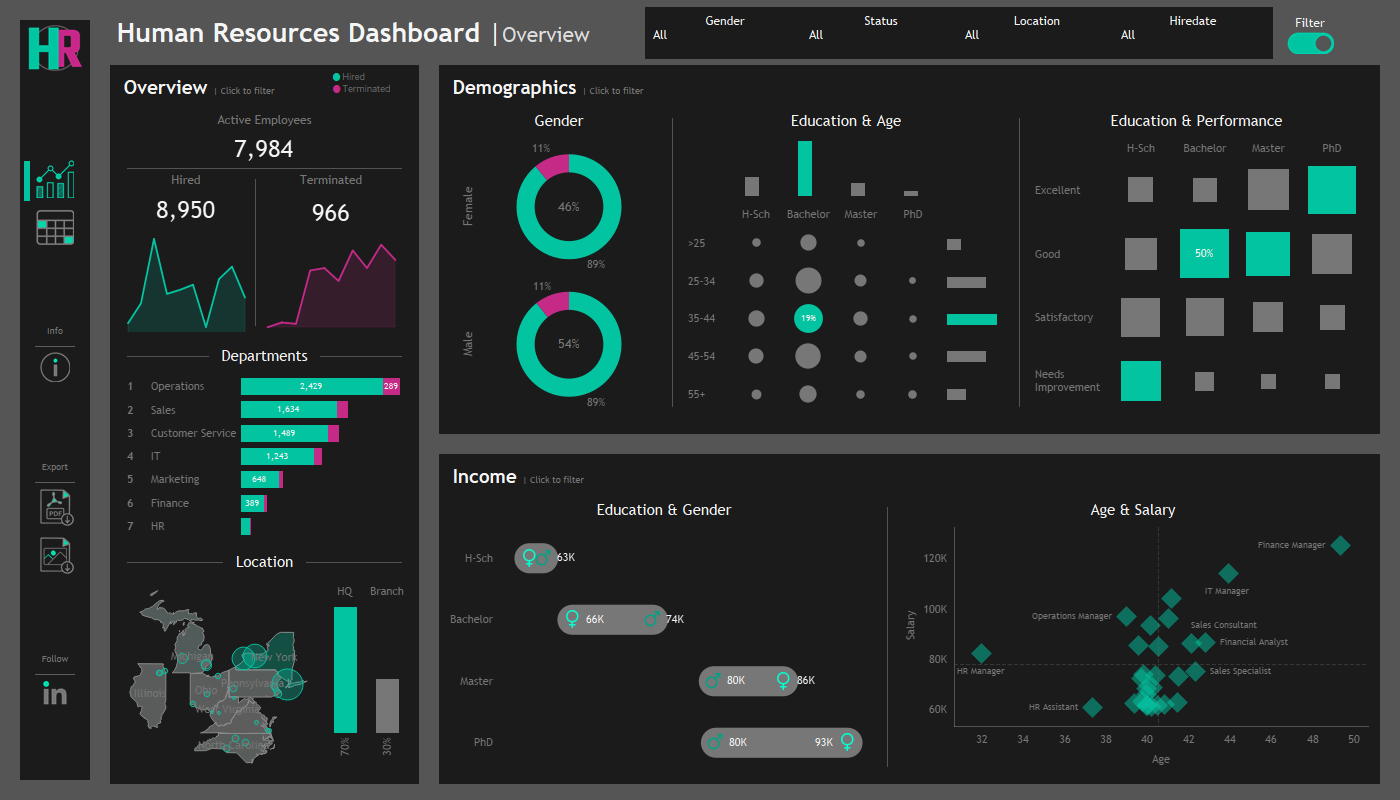

The page's visual inventory and layout, read from the dashboard file:
{"tool":"tableau","page":{"name":"HR | Summary","canvas":[1400,800],"ordinal":1},"visuals":[{"type":"blank","box":[91,0,1309,229]},{"type":"text","box":[110,0,675,65]},{"type":"blank","box":[785,0,595,65]},{"type":"text","box":[1274,8,72,30]},{"type":"filter","title":"Gender vs Education Level","param":"[federated.0zwqjh80e3d7aq1fdb9z613czh0v].[none:Gender:nk]","box":[647,9,156,48]},{"type":"filter","title":"Gender vs Education Level","param":"[federated.0zwqjh80e3d7aq1fdb9z613czh0v].[none:Calculation_1618199688264314880:n","box":[803,9,156,48]},{"type":"filter","title":"Gender vs Education Level","param":"[federated.0zwqjh80e3d7aq1fdb9z613czh0v].[none:Calculation_891712773256622085:nk","box":[959,9,156,48]},{"type":"filter","title":"Gender vs Education Level","param":"[federated.0zwqjh80e3d7aq1fdb9z613czh0v].[yr:Hiredate:ok]","box":[1115,9,156,48]},{"type":"image","param":"Image/Logo.png","box":[20,20,70,55]},{"type":"dashboard-object","box":[1287,21,47,45]},{"type":"text","box":[330,68,65,30]},{"type":"text","box":[117,72,295,31]},{"type":"text","box":[446,72,927,31]},{"type":"blank","box":[30,85,50,75]},{"type":"text","box":[117,103,295,28]},{"type":"text","box":[451,108,216,26]},{"type":"blank","box":[672,108,1,309]},{"type":"text","box":[678,108,336,26]},{"type":"blank","box":[1019,108,1,309]},{"type":"text","box":[1025,108,343,26]},{"type":"worksheet","title":"BAN Active","mark":"Text","box":[117,131,295,37]},{"type":"worksheet","title":"Gender","mark":"Pie","rows":["Gender"],"cols":["Calculation_891712773260918791","Calculation_891712773260918791"],"box":[451,134,216,283]},{"type":"worksheet","title":"Education Levels","mark":"Bar","rows":["Calculation_891712773248208896"],"cols":["Education Level"],"box":[678,134,336,66]},{"type":"worksheet","title":"Education vs Performance","mark":"Square","rows":["Performance Rating"],"cols":["Education Level"],"box":[1025,134,343,283]},{"type":"dashboard-object","box":[30,160,50,38]},{"type":"blank","box":[24,161,6,40]},{"type":"blank","box":[117,168,295,1]},{"type":"text","box":[117,169,138,22]},{"type":"blank","box":[255,169,1,167]},{"type":"text","box":[256,169,150,22]},{"type":"worksheet","title":"BAN Hired","mark":"Text","box":[117,191,138,38]},{"type":"worksheet","title":"BAN Terminated","mark":"Text","box":[256,191,150,44]},{"type":"blank","box":[30,198,50,10]},{"type":"worksheet","title":"Age vs Education","mark":"Circle","rows":["Calculation_891712773265412105"],"cols":["Education Level"],"box":[678,200,265,217]},{"type":"worksheet","title":"Age Groups","mark":"Bar","rows":["Calculation_891712773265412105"],"cols":["Calculation_891712773248208896"],"box":[943,200,61,217]},{"type":"dashboard-object","box":[30,208,50,38]},{"type":"text","box":[91,229,1309,217]},{"type":"worksheet","title":"Hired By Year","mark":"Line","rows":["Calculation_891712773248208896","Calculation_891712773248208896"],"cols":["Hiredate"],"box":[117,229,138,107]},{"type":"worksheet","title":"Terminated By Year","mark":"Line","rows":["Calculation_891712773248438273","Calculation_891712773248438273"],"cols":["Termdate"],"box":[256,235,150,101]},{"type":"blank","box":[30,246,50,75]},{"type":"text","box":[30,321,50,20]},{"type":"blank","box":[30,341,50,11]},{"type":"blank","box":[127,341,82,30]},{"type":"text","box":[209,341,111,30]},{"type":"blank","box":[320,341,82,30]},{"type":"dashboard-object","box":[30,352,50,30]},{"type":"worksheet","title":"Departments","mark":"Bar","rows":["Calculation_891712773255933956","Department"],"cols":["Calculation_891712773248208896"],"box":[117,371,295,171]},{"type":"blank","box":[30,382,50,75]},{"type":"blank","box":[91,446,1309,354]},{"type":"text","box":[30,457,50,20]},{"type":"text","box":[446,461,927,31]},{"type":"blank","box":[30,477,50,11]},{"type":"dashboard-object","box":[30,488,50,38]},{"type":"text","box":[446,497,436,26]},{"type":"blank","box":[887,497,1,280]},{"type":"text","box":[893,497,480,26]},{"type":"worksheet","title":"Gender vs Education Level","mark":"Square","rows":["Education Level"],"cols":["Salary","Salary"],"box":[446,523,436,254]},{"type":"worksheet","title":"Age vs Salary","mark":"Shape","rows":["Salary"],"cols":["Calculation_891712773264736264"],"box":[893,523,480,254]},{"type":"blank","box":[30,526,50,10]},{"type":"dashboard-object","box":[30,536,50,38]},{"type":"blank","box":[127,547,95.7,30]},{"type":"text","box":[222.7,547,83.7,30]},{"type":"blank","box":[306.3,547,95.7,30]},{"type":"blank","box":[30,574,50,75]},{"type":"worksheet","title":"Map States","mark":"Multipolygon","box":[117,577,203,200]},{"type":"worksheet","title":"Location","mark":"Bar","rows":["Calculation_891712773248208896"],"cols":["Calculation_891712773256622085","Calculation1"],"box":[320,577,92,200]},{"type":"text","box":[30,649,50,20]},{"type":"blank","box":[30,669,50,11]},{"type":"image","param":"Image/contact-linkedin.png","box":[30,680,50,25]}]}

Visuals, with their boxes in screenshot pixels (x1, y1, x2, y2), scaled from the page's 1400x800 canvas onto the 1400x800 screenshot:
blank: bbox=(91, 0, 1399, 229)
text: bbox=(110, 0, 785, 65)
blank: bbox=(785, 0, 1380, 65)
text: bbox=(1274, 8, 1346, 38)
"Gender vs Education Level" filter: bbox=(647, 9, 803, 57)
"Gender vs Education Level" filter: bbox=(803, 9, 959, 57)
"Gender vs Education Level" filter: bbox=(959, 9, 1115, 57)
"Gender vs Education Level" filter: bbox=(1115, 9, 1271, 57)
image: bbox=(20, 20, 90, 75)
dashboard-object: bbox=(1287, 21, 1334, 66)
text: bbox=(330, 68, 395, 98)
text: bbox=(117, 72, 412, 103)
text: bbox=(446, 72, 1373, 103)
blank: bbox=(30, 85, 80, 160)
text: bbox=(117, 103, 412, 131)
text: bbox=(451, 108, 667, 134)
blank: bbox=(672, 108, 673, 417)
text: bbox=(678, 108, 1014, 134)
blank: bbox=(1019, 108, 1020, 417)
text: bbox=(1025, 108, 1368, 134)
"BAN Active" worksheet (Text marks): bbox=(117, 131, 412, 168)
"Gender" worksheet (Pie marks): bbox=(451, 134, 667, 417)
"Education Levels" worksheet (Bar marks): bbox=(678, 134, 1014, 200)
"Education vs Performance" worksheet (Square marks): bbox=(1025, 134, 1368, 417)
dashboard-object: bbox=(30, 160, 80, 198)
blank: bbox=(24, 161, 30, 201)
blank: bbox=(117, 168, 412, 169)
text: bbox=(117, 169, 255, 191)
blank: bbox=(255, 169, 256, 336)
text: bbox=(256, 169, 406, 191)
"BAN Hired" worksheet (Text marks): bbox=(117, 191, 255, 229)
"BAN Terminated" worksheet (Text marks): bbox=(256, 191, 406, 235)
blank: bbox=(30, 198, 80, 208)
"Age vs Education" worksheet (Circle marks): bbox=(678, 200, 943, 417)
"Age Groups" worksheet (Bar marks): bbox=(943, 200, 1004, 417)
dashboard-object: bbox=(30, 208, 80, 246)
text: bbox=(91, 229, 1399, 446)
"Hired By Year" worksheet (Line marks): bbox=(117, 229, 255, 336)
"Terminated By Year" worksheet (Line marks): bbox=(256, 235, 406, 336)
blank: bbox=(30, 246, 80, 321)
text: bbox=(30, 321, 80, 341)
blank: bbox=(30, 341, 80, 352)
blank: bbox=(127, 341, 209, 371)
text: bbox=(209, 341, 320, 371)
blank: bbox=(320, 341, 402, 371)
dashboard-object: bbox=(30, 352, 80, 382)
"Departments" worksheet (Bar marks): bbox=(117, 371, 412, 542)
blank: bbox=(30, 382, 80, 457)
blank: bbox=(91, 446, 1399, 799)
text: bbox=(30, 457, 80, 477)
text: bbox=(446, 461, 1373, 492)
blank: bbox=(30, 477, 80, 488)
dashboard-object: bbox=(30, 488, 80, 526)
text: bbox=(446, 497, 882, 523)
blank: bbox=(887, 497, 888, 777)
text: bbox=(893, 497, 1373, 523)
"Gender vs Education Level" worksheet (Square marks): bbox=(446, 523, 882, 777)
"Age vs Salary" worksheet (Shape marks): bbox=(893, 523, 1373, 777)
blank: bbox=(30, 526, 80, 536)
dashboard-object: bbox=(30, 536, 80, 574)
blank: bbox=(127, 547, 223, 577)
text: bbox=(223, 547, 306, 577)
blank: bbox=(306, 547, 402, 577)
blank: bbox=(30, 574, 80, 649)
"Map States" worksheet (Multipolygon marks): bbox=(117, 577, 320, 777)
"Location" worksheet (Bar marks): bbox=(320, 577, 412, 777)
text: bbox=(30, 649, 80, 669)
blank: bbox=(30, 669, 80, 680)
image: bbox=(30, 680, 80, 705)
